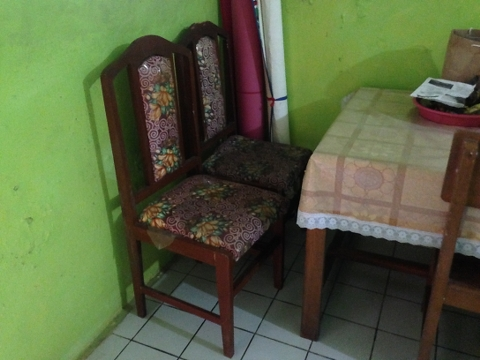kursi: (101, 34, 286, 355), (176, 20, 314, 202)
